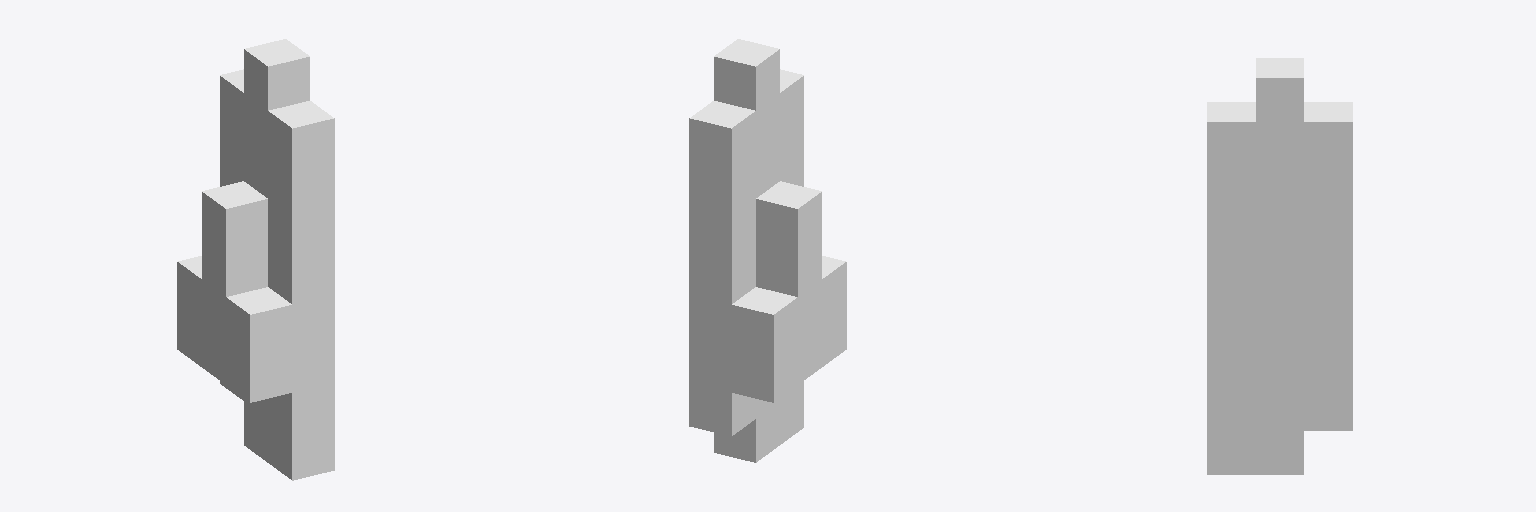
The model's file is Arm-R.obj.
3 views of the same model, side by side, from view 1: azimuth 30°, elevation 25°; view 2: azimuth 150°, elevation 25°; view 3: azimuth 270°, elevation 25° (orthographic).
Visible parts, largest first — view 1: object 1; view 2: object 1; view 3: object 1.
Boxes of the visible parts, x1,y1,x2,y2 form: object 1: [177, 39, 334, 480]; object 1: [689, 39, 846, 462]; object 1: [1207, 58, 1352, 474].
Size of the model in its own units: 0.2 by 0.9 by 0.3.